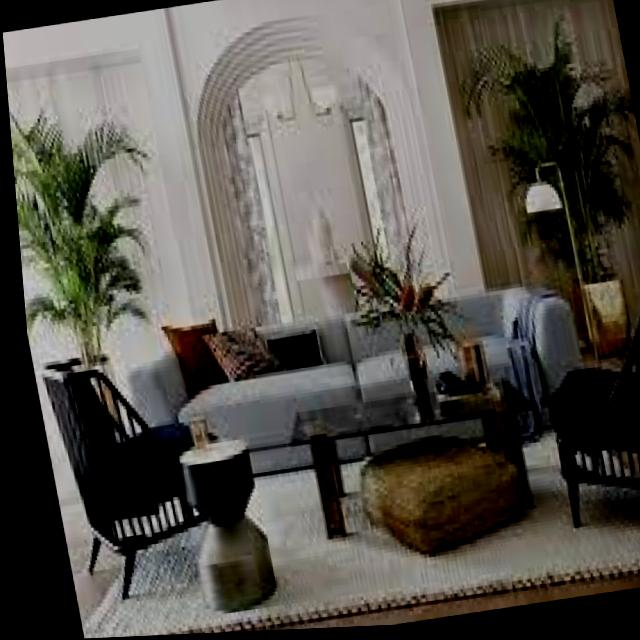noobs: (63, 541, 640, 639)
obs: (116, 286, 583, 496), (282, 377, 541, 561), (35, 368, 233, 602), (542, 315, 640, 542), (172, 443, 268, 615)
semobs: (443, 488, 563, 559), (253, 478, 296, 585)
